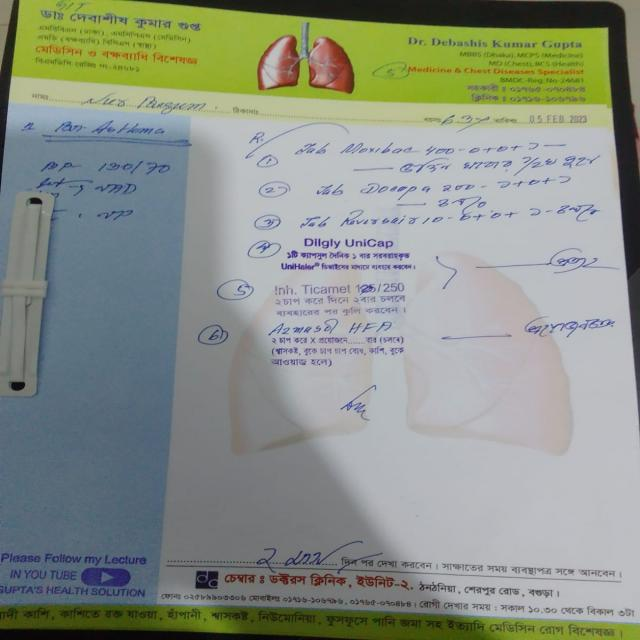Azmasol HFA: (269, 319, 399, 337)
Docopa: (364, 179, 433, 200)
Moxibac: (338, 138, 421, 163)
Reversair: (338, 202, 424, 234)
